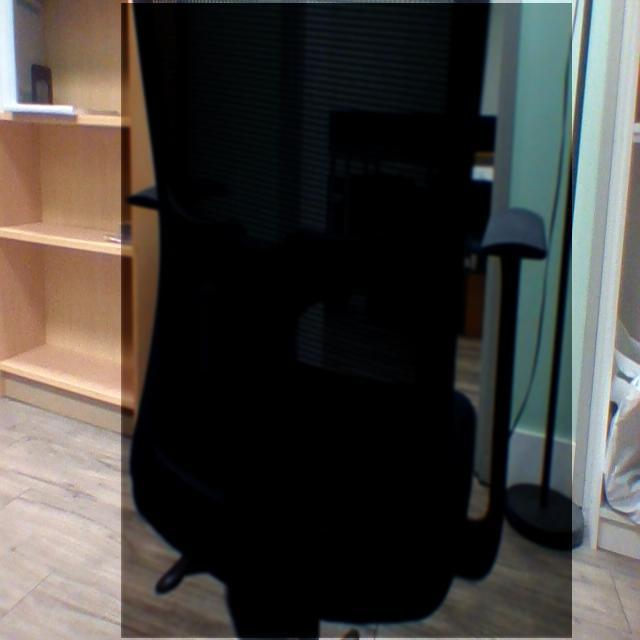chair: (122, 0, 565, 640)
